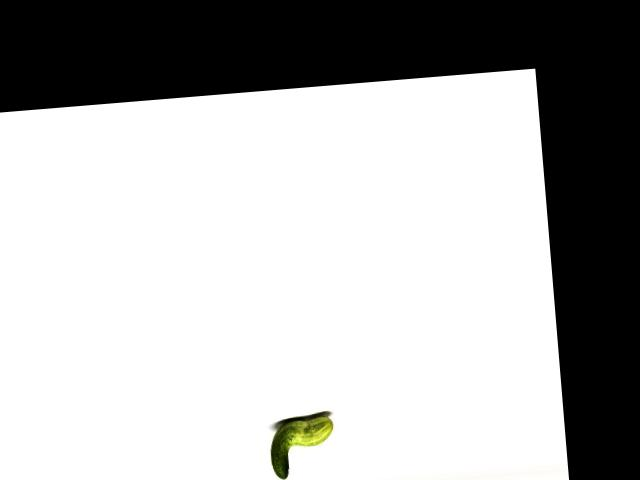cucumber: (267, 414, 336, 479)
